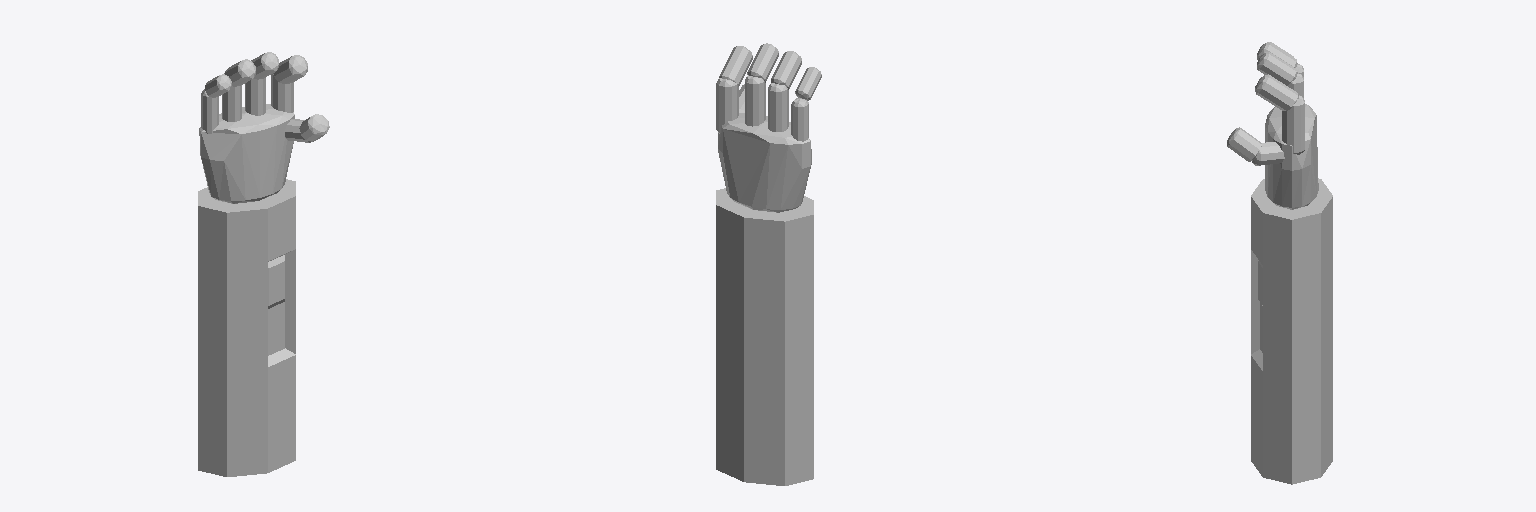
File: mdl_arm.obj
The picture shows the model from 3 angles: view 1: azimuth 30°, elevation 25°; view 2: azimuth 150°, elevation 25°; view 3: azimuth 270°, elevation 25°; orthographic projection.
Visible parts, largest first — view 1: Cylinder001, Cylinder002, Cylinder005, Cylinder010, Cylinder006, Cylinder004, Cylinder003, Cylinder012, Cylinder008; view 2: Cylinder001, Cylinder002, Cylinder005, Cylinder006, Cylinder004, Cylinder010, Cylinder009, Cylinder003, Cylinder008, Cylinder007; view 3: Cylinder001, Cylinder002, Cylinder006, Cylinder010, Cylinder009, Cylinder012, Cylinder011.
Boxes of the visible parts, x1,y1,x2,y2 form: Cylinder001: [198, 179, 295, 476]; Cylinder002: [199, 104, 294, 203]; Cylinder005: [245, 78, 265, 115]; Cylinder010: [274, 55, 307, 83]; Cylinder006: [271, 73, 293, 112]; Cylinder004: [222, 73, 241, 121]; Cylinder003: [201, 89, 218, 133]; Cylinder012: [299, 114, 329, 141]; Cylinder008: [225, 59, 255, 86]; Cylinder001: [716, 188, 813, 485]; Cylinder002: [718, 113, 811, 212]; Cylinder005: [745, 75, 765, 126]; Cylinder006: [716, 78, 738, 133]; Cylinder004: [768, 83, 788, 131]; Cylinder010: [719, 46, 752, 86]; Cylinder009: [747, 43, 778, 82]; Cylinder003: [791, 98, 808, 141]; Cylinder008: [771, 51, 801, 89]; Cylinder007: [795, 67, 821, 100]; Cylinder001: [1251, 178, 1332, 484]; Cylinder002: [1265, 104, 1318, 209]; Cylinder006: [1282, 95, 1304, 154]; Cylinder010: [1255, 74, 1298, 110]; Cylinder009: [1257, 52, 1297, 85]; Cylinder012: [1227, 127, 1261, 161]; Cylinder011: [1252, 142, 1284, 165].
Size of the model in its own units: 0.1474 by 0.5574 by 0.1307.